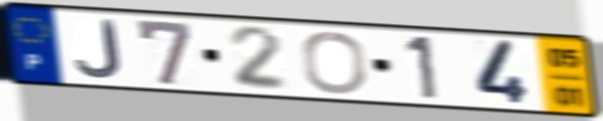1: (402, 33, 441, 102)
2: (225, 24, 291, 94)
4: (471, 37, 538, 109)
7: (131, 17, 195, 88)
J: (72, 17, 125, 81)
O: (300, 29, 371, 96)
